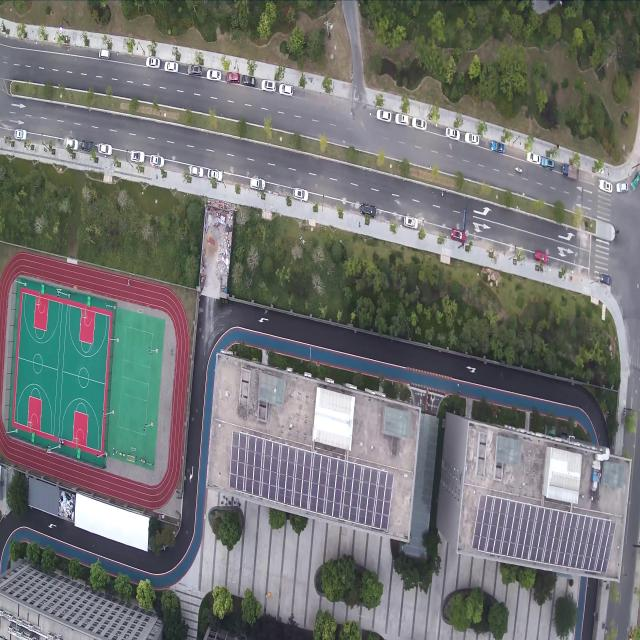drone: (264, 308, 268, 314)
